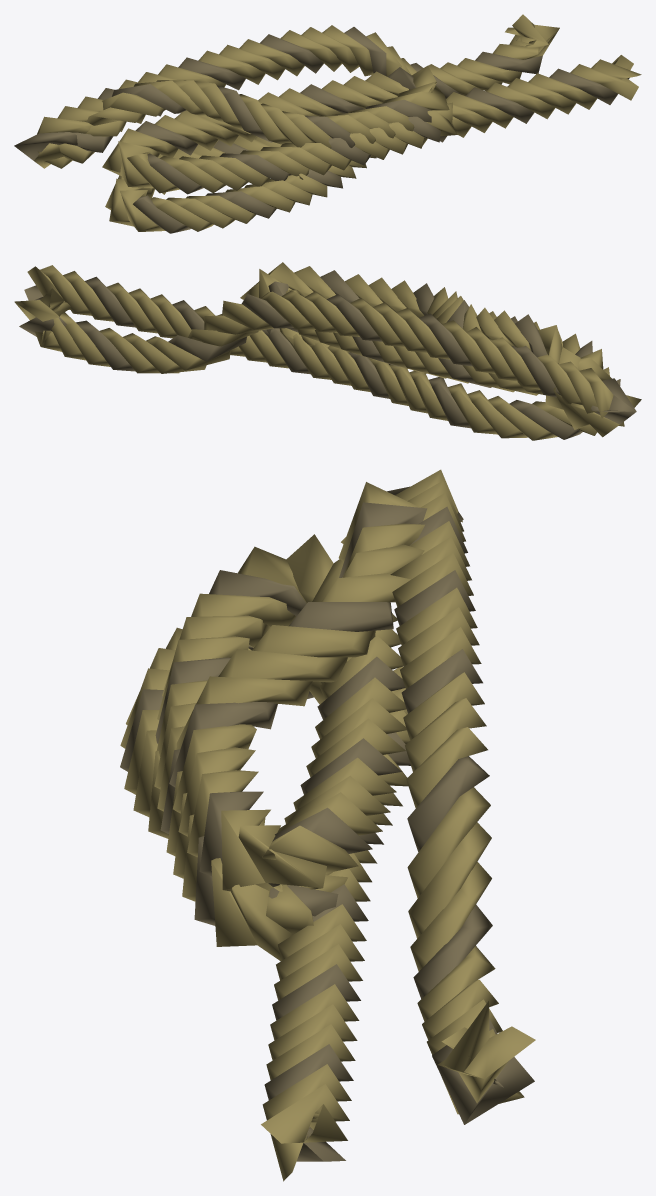
The model's file is verevka.fbx.
3 views of the same model, one above another, from view 1: azimuth 30°, elevation 25°; view 2: azimuth 150°, elevation 25°; view 3: azimuth 270°, elevation 25° (orthographic). The views are drawn at different scales.
Visible parts, largest first — view 1: Circle; view 2: Circle; view 3: Circle.
Boxes of the visible parts, x1,y1,x2,y2 form: Circle: (14, 14, 641, 233); Circle: (14, 262, 641, 440); Circle: (120, 469, 535, 1181).
Bounding box in the file's own units: 1054 × 204 × 322.
